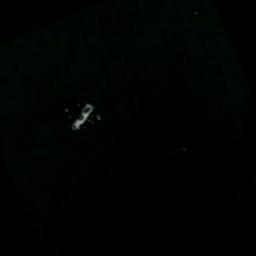boat: (64, 98, 102, 132)
